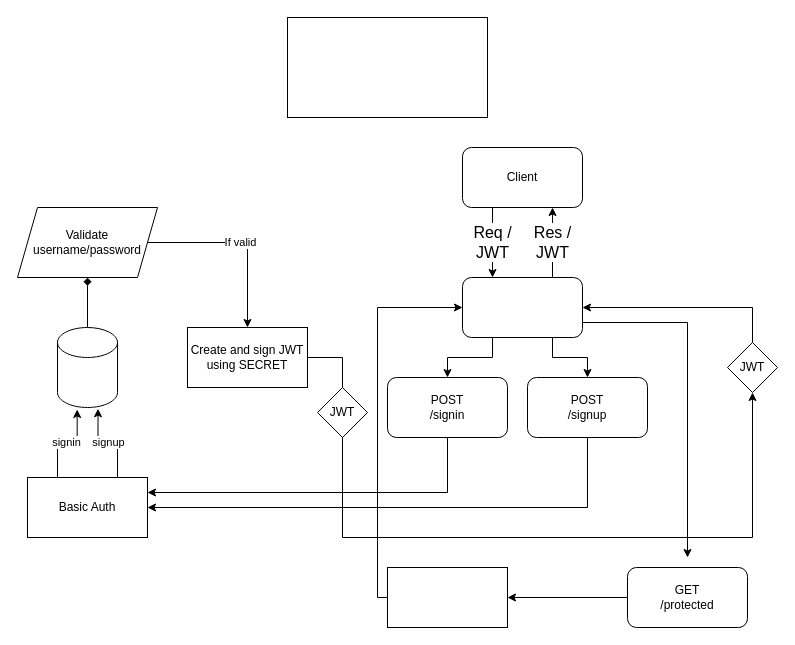
This 795x645 diagram has some shape labels left out. The shapes that lost their labels are listed below. From the top down, each one's centre as x and y in pixels, then its label:
At (387,67): "Bearer Auth".
At (522,307): "API Server".
At (87,367): "Database".
At (447,597): "Validate JWT Signature".
